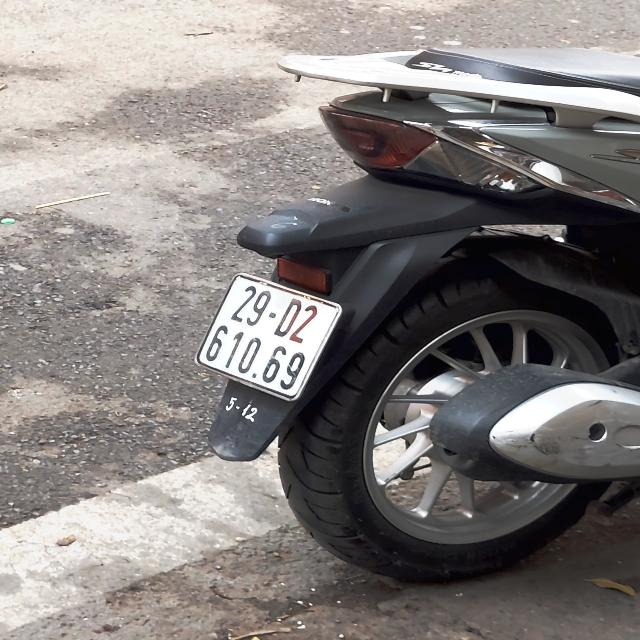license_plate: (185, 268, 353, 407)
